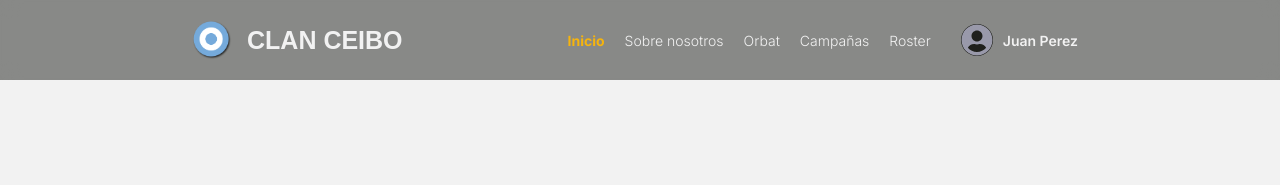
Scenario: Navbar › signs out and closes the dropdown when Cerrar sesión is clicked
The image size is (1280, 185).
Step 1. Click the button "Juan Perez" → (1019, 40), box [951, 18, 1088, 62]
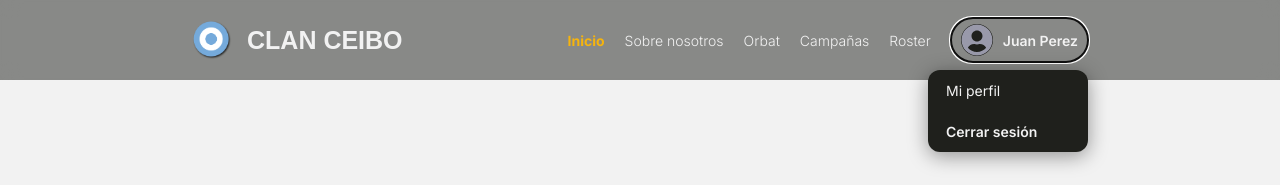
Step 2. Click the button "Cerrar sesión" → (1008, 132), box [928, 111, 1088, 152]
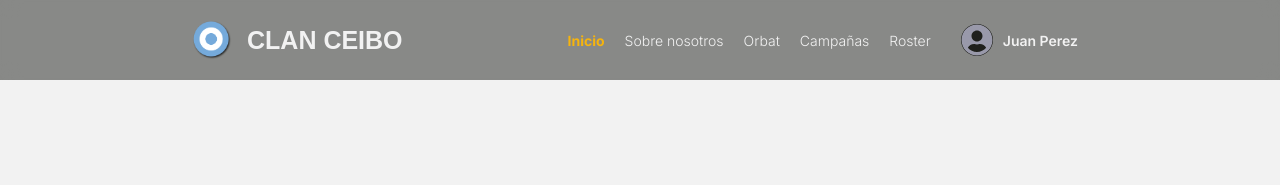
Check: the button "Cerrar sesión" is gone
